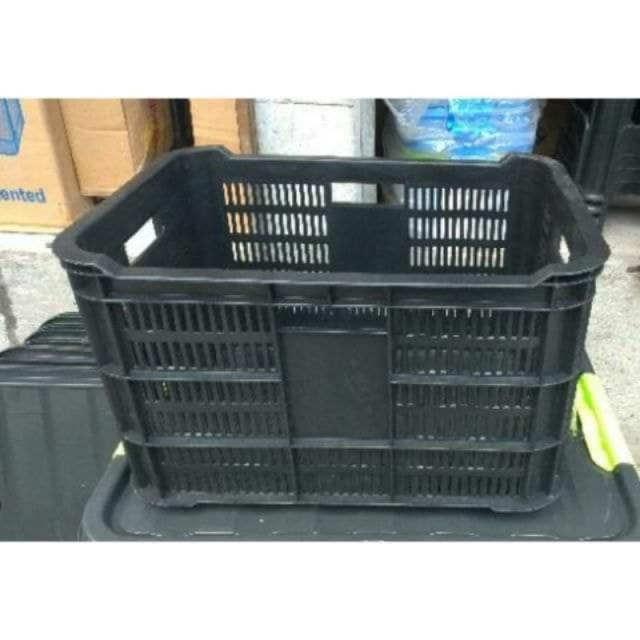basket: (47, 144, 612, 518)
